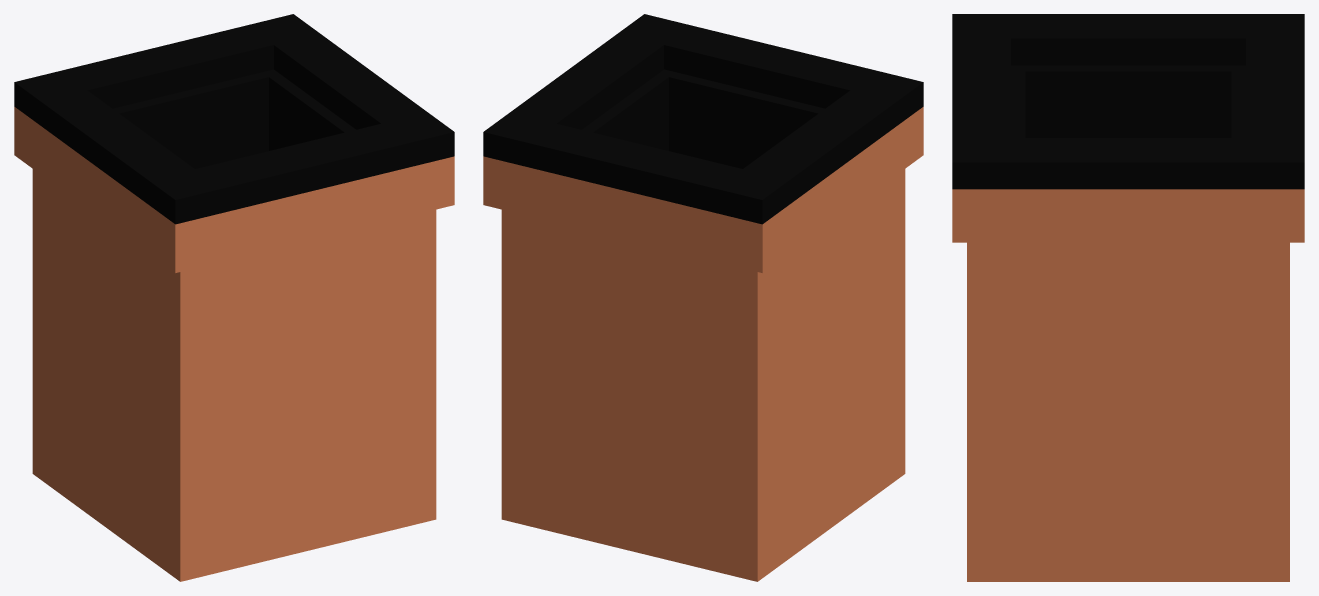
The model's file is Trashcan.fbx.
3 renders of one model, left to right at view 1: azimuth 30°, elevation 25°; view 2: azimuth 150°, elevation 25°; view 3: azimuth 270°, elevation 25°, orthographic. The views are drawn at different scales.
Parts seen in each view (by area): view 1: Cube.002, Cube.013, Cube.005, Cube.010, Cube.012, Cube.016, Cube.011, Cube.009, Cube.008, Cube.004, Cube, Cube.007; view 2: Cube.004, Cube.013, Cube.007, Cube.012, Cube.010, Cube.014, Cube.011, Cube.009, Cube.008, Cube.002, Cube, Cube.005; view 3: Cube.003, Cube.015, Cube.006, Cube.009, Cube.011, Cube.010, Cube.012, Cube.002, Cube.004, Cube.005, Cube.007, Cube.014 (+1 smaller).
Part boxes in pixels (x1,y1,x2,y2): Cube.002: (167, 209, 436, 581); Cube.013: (46, 178, 166, 571); Cube.005: (148, 156, 454, 272); Cube.010: (148, 112, 454, 224); Cube.012: (14, 14, 319, 125); Cube.016: (113, 72, 268, 168); Cube.011: (41, 90, 194, 204); Cube.009: (274, 33, 427, 129); Cube.008: (41, 126, 148, 253); Cube.004: (32, 169, 45, 483); Cube: (262, 69, 355, 150); Cube.007: (14, 107, 40, 174); Cube.004: (501, 209, 770, 581); Cube.013: (771, 178, 891, 571); Cube.007: (483, 156, 789, 272); Cube.012: (483, 112, 789, 224); Cube.010: (618, 14, 923, 125); Cube.014: (669, 72, 824, 168); Cube.011: (743, 90, 896, 204); Cube.009: (510, 33, 663, 129); Cube.008: (789, 126, 896, 253); Cube.002: (892, 169, 905, 483); Cube: (582, 69, 675, 150); Cube.005: (897, 107, 923, 174); Cube.003: (996, 242, 1260, 581); Cube.015: (1011, 65, 1245, 137); Cube.006: (1011, 189, 1245, 242); Cube.009: (1011, 138, 1245, 189); Cube.011: (1011, 14, 1245, 65); Cube.010: (952, 14, 1010, 189); Cube.012: (1246, 14, 1304, 189); Cube.002: (967, 242, 996, 581); Cube.004: (1260, 242, 1289, 581); Cube.005: (952, 189, 1010, 242); Cube.007: (1246, 189, 1304, 242); Cube.014: (1011, 71, 1025, 137).
Size of the model in its own units: 240 by 320 by 240.
